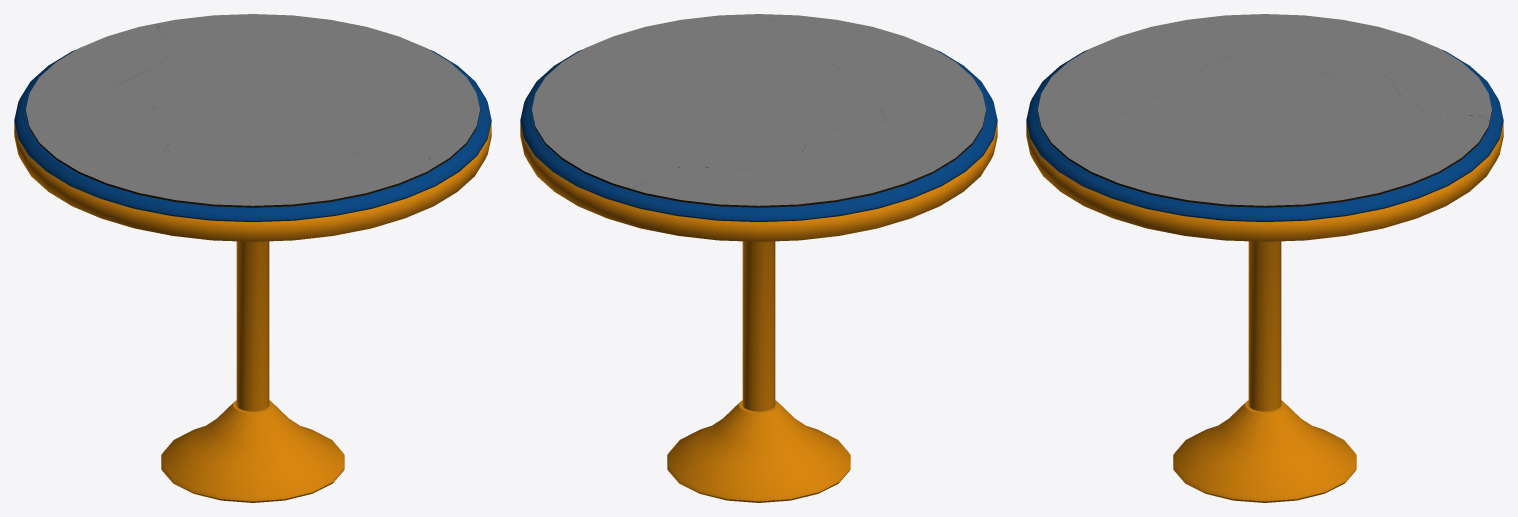
File: Metal_Table_LP.fbx
The picture shows the model from 3 angles, left to right: view 1: azimuth 30°, elevation 25°; view 2: azimuth 150°, elevation 25°; view 3: azimuth 270°, elevation 25°; orthographic projection.
Visible parts, largest first — view 1: LP; view 2: LP; view 3: LP.
Boxes of the visible parts, box(x1,y1,x2,y2) form: LP: box(14, 14, 491, 502); LP: box(520, 14, 997, 502); LP: box(1026, 14, 1503, 502).
Size of the model in its own units: 86.84 by 86.9 by 71.14.
